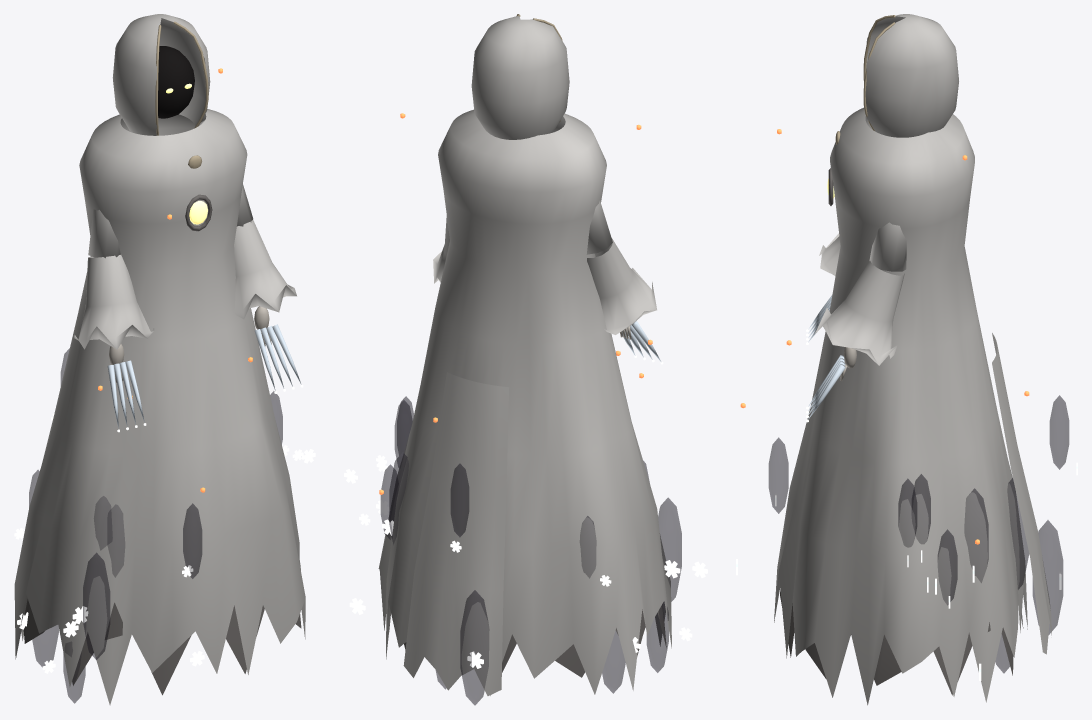
Rendered from snow_wraith.glb.
3 views of the same model, side by side, from view 1: azimuth 30°, elevation 25°; view 2: azimuth 150°, elevation 25°; view 3: azimuth 270°, elevation 25° (orthographic).
Parts seen in each view (by area): view 1: Shroud, Wraith_Root_HSmoke, Hood, ArmA_Shroud, ArmB_Shroud, Wraith_Root_ShroudShadow, Void, ArmA_HClaw, Wraith_Root_Snowflake, ArmB_HClaw, Head_PaleGold; view 2: Shroud, Trail, Wraith_Root_HSmoke, Hood, ArmA_Shroud, Wraith_Root_Snowflake, Wraith_Root_ShroudShadow, Tail_Snowflake, ArmA_HClaw; view 3: Shroud, Wraith_Root_HSmoke, Hood, ArmB_Shroud, Trail, Wraith_Root_ShroudShadow, ArmB_HClaw, ArmA_Shroud.
Boxes of the visible parts, <box> form: Shroud: <box>14,109,305,705</box>; Wraith_Root_HSmoke: <box>29,348,282,703</box>; Hood: <box>112,14,210,135</box>; ArmA_Shroud: <box>74,209,154,349</box>; ArmB_Shroud: <box>198,120,296,319</box>; Wraith_Root_ShroudShadow: <box>23,194,301,695</box>; Void: <box>158,46,194,118</box>; ArmA_HClaw: <box>107,360,144,428</box>; Wraith_Root_Snowflake: <box>17,445,315,673</box>; ArmB_HClaw: <box>254,324,301,390</box>; Head_PaleGold: <box>155,21,208,135</box>; Shroud: <box>378,109,671,695</box>; Trail: <box>403,372,509,695</box>; Wraith_Root_HSmoke: <box>380,396,681,705</box>; Hood: <box>471,16,569,139</box>; ArmA_Shroud: <box>586,201,656,334</box>; Wraith_Root_Snowflake: <box>344,455,707,652</box>; Wraith_Root_ShroudShadow: <box>389,604,666,677</box>; Tail_Snowflake: <box>349,519,611,668</box>; ArmA_HClaw: <box>622,321,661,361</box>; Shroud: <box>774,107,1027,705</box>; Wraith_Root_HSmoke: <box>768,395,1069,673</box>; Hood: <box>865,14,958,137</box>; ArmB_Shroud: <box>815,222,906,365</box>; Trail: <box>992,333,1051,654</box>; Wraith_Root_ShroudShadow: <box>780,168,1023,695</box>; ArmB_HClaw: <box>808,355,845,419</box>; ArmA_Shroud: <box>819,233,840,275</box>.
Bounding box in the file's own units: 0.9557 × 1.89 × 0.9071.
